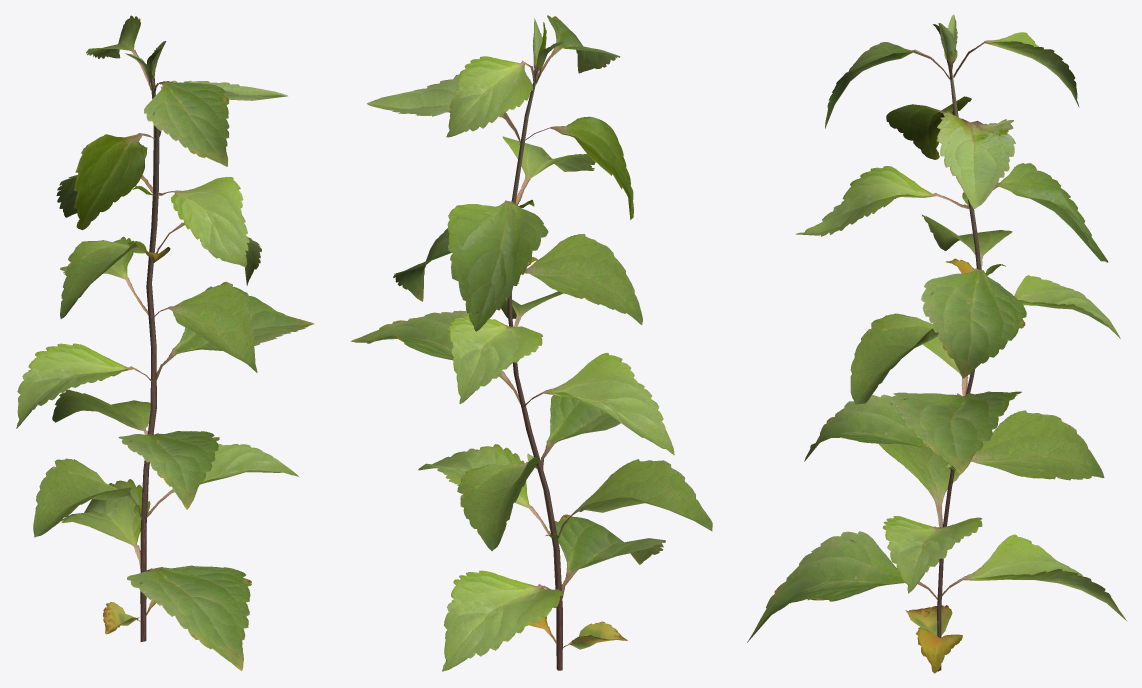
The model's file is shrub_01_b_LOD1.glb.
3 renders of one model, left to right at view 1: azimuth 30°, elevation 25°; view 2: azimuth 150°, elevation 25°; view 3: azimuth 270°, elevation 25°, orthographic. The views are drawn at different scales.
Visible parts, largest first — view 1: shrub_01_b_LOD1__lod0; view 2: shrub_01_b_LOD1__lod0; view 3: shrub_01_b_LOD1__lod0.
Part boxes in pixels (box(x1,y1,x2,y2)): shrub_01_b_LOD1__lod0: box(16, 15, 314, 670); shrub_01_b_LOD1__lod0: box(350, 15, 712, 671); shrub_01_b_LOD1__lod0: box(747, 14, 1126, 673).
Size of what is drawn, in the model's own units: 0.1818 by 0.3323 by 0.175.
Materials: 1 (1 with a texture image).
